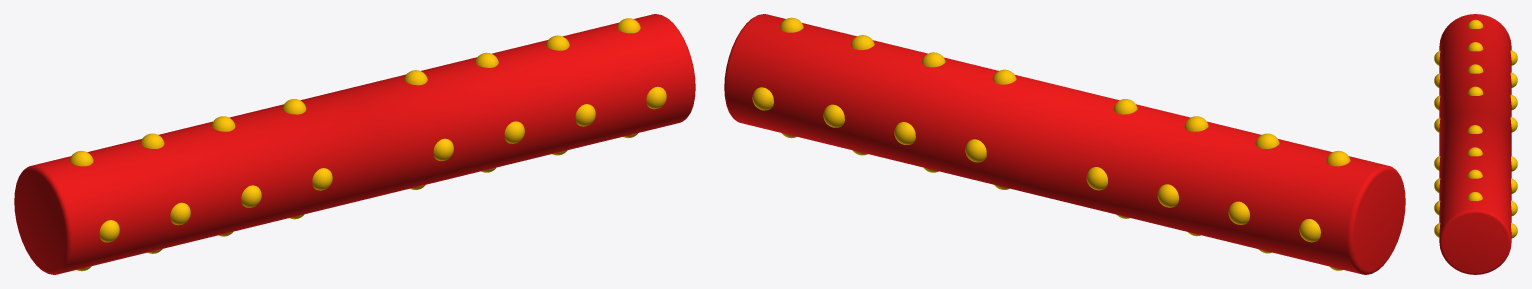
The model's file is trap_horizontal.fbx.
3 views of the same model, side by side, from view 1: azimuth 30°, elevation 25°; view 2: azimuth 150°, elevation 25°; view 3: azimuth 270°, elevation 25° (orthographic). The views are drawn at different scales.
Parts seen in each view (by area): view 1: yatay tuzak; view 2: yatay tuzak; view 3: yatay tuzak.
Boxes of the visible parts, <box> form: yatay tuzak: <box>14,14,695,274</box>; yatay tuzak: <box>724,14,1405,274</box>; yatay tuzak: <box>1434,14,1517,274</box>.
Size of the model in its own units: 3.01 by 0.5421 by 0.5389.
